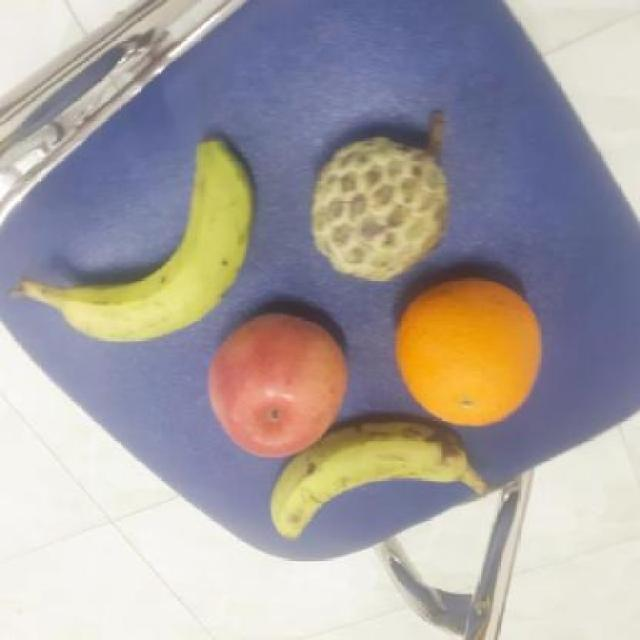apple: (205, 311, 356, 465)
banana: (50, 137, 258, 346), (268, 419, 472, 550)
oren: (396, 278, 547, 430)
sugar apple: (307, 132, 456, 286)
